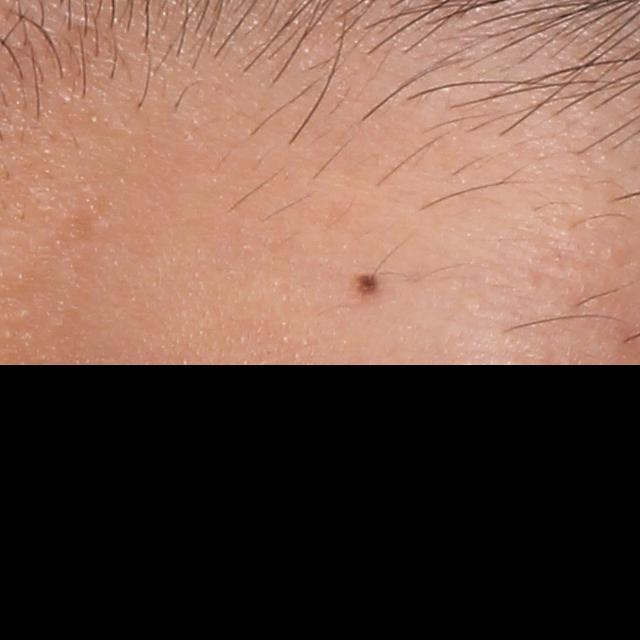nevus: (351, 270, 386, 302)
